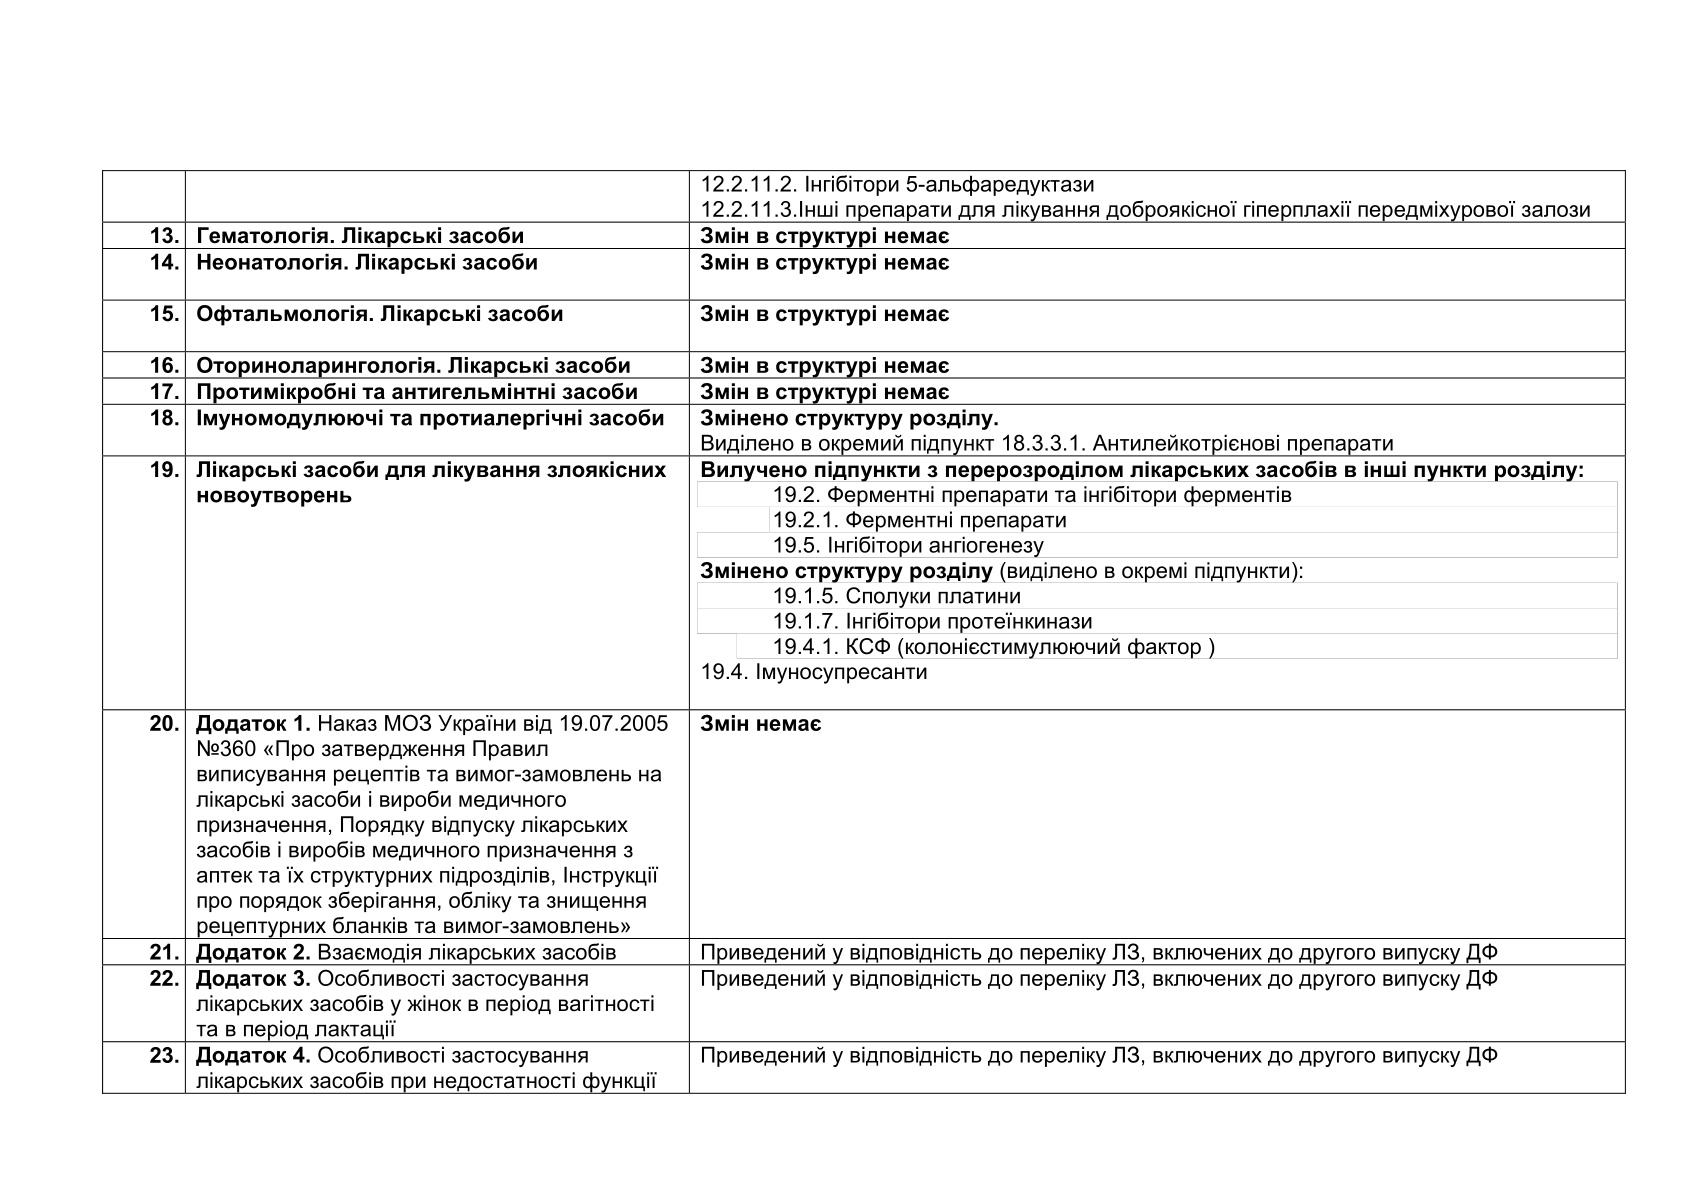full_lined: (100, 169, 1627, 1096)
